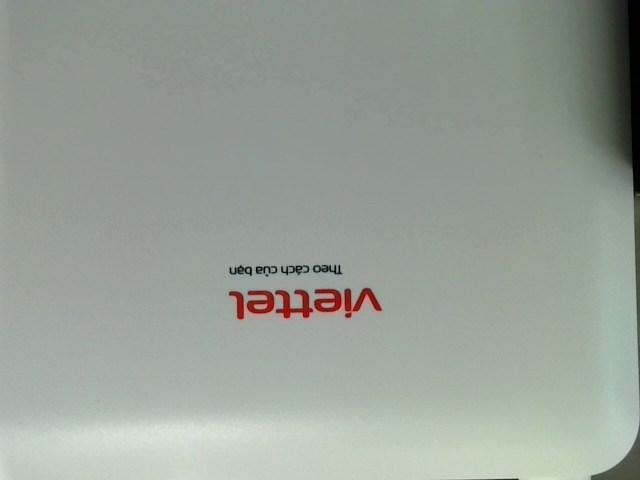AY_Viettel: (223, 265, 384, 316)
